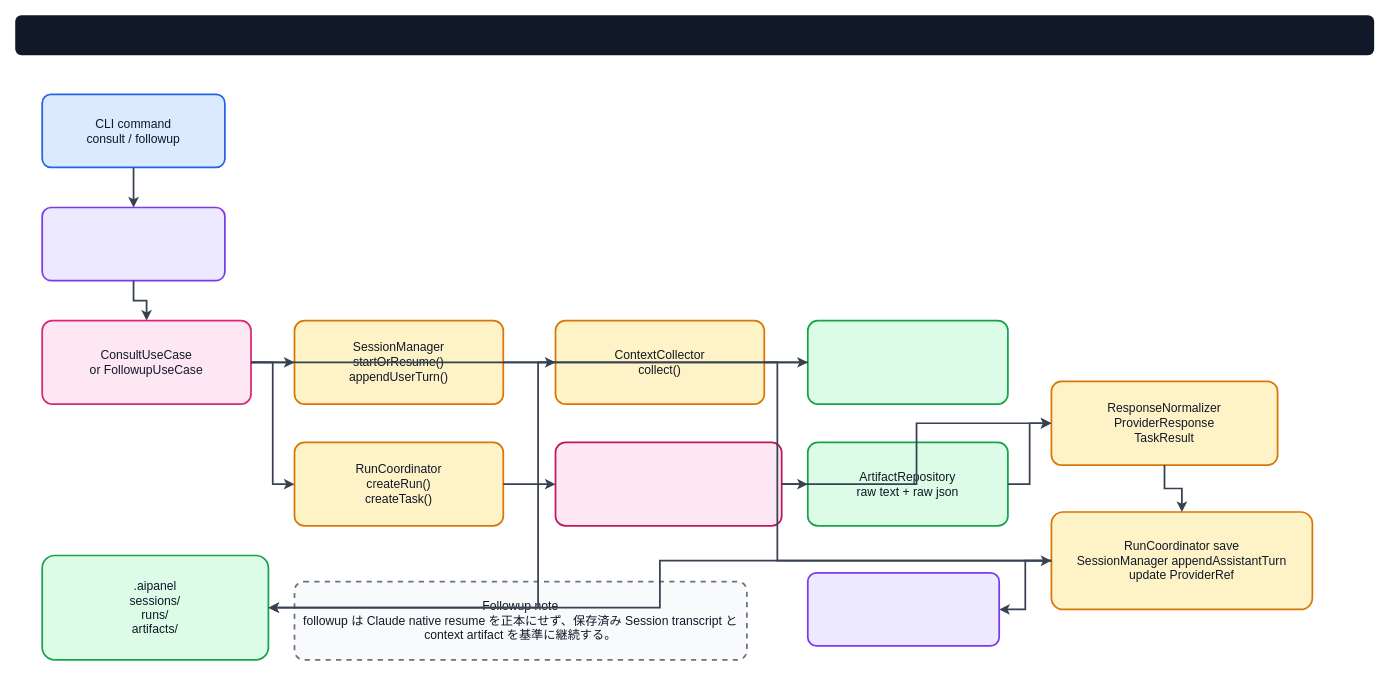
Some shapes in this 1389 by 675 pixel diagram are drawn without their labels. Each missing label, with the centre of its shape:
ArtifactRepository context-bundle: the point at 907,362
CommandRouter: the point at 133,243
Direct Flow: consult / followup: the point at 694,35
ProviderRegistry ClaudeCodeAdapter: the point at 668,483
ResultRenderer: the point at 903,609
